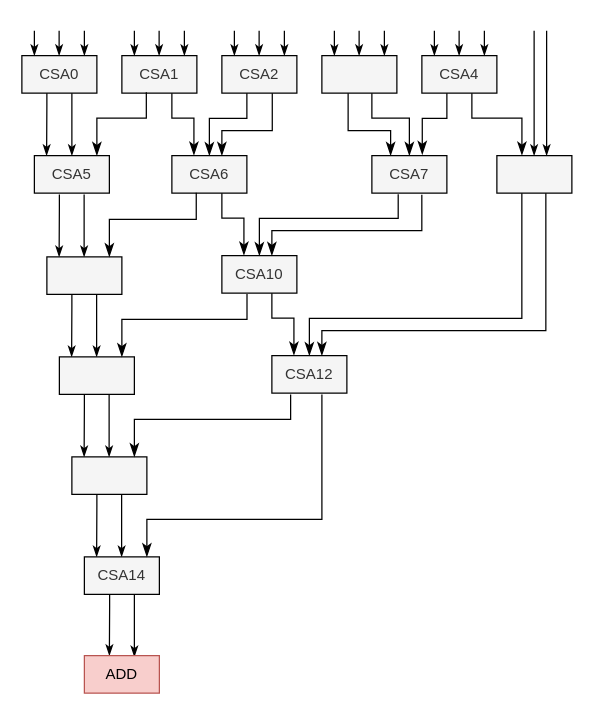
Image size: 594x715. Some labels were removed from this diagram. Here are the shapes that lost their labels. From the top down, the centre of each, then its label:
the point at 359,73: CSA3
the point at 534,173: CSA8
the point at 84,275: CSA9
the point at 96,375: CSA11
the point at 109,475: CSA13
